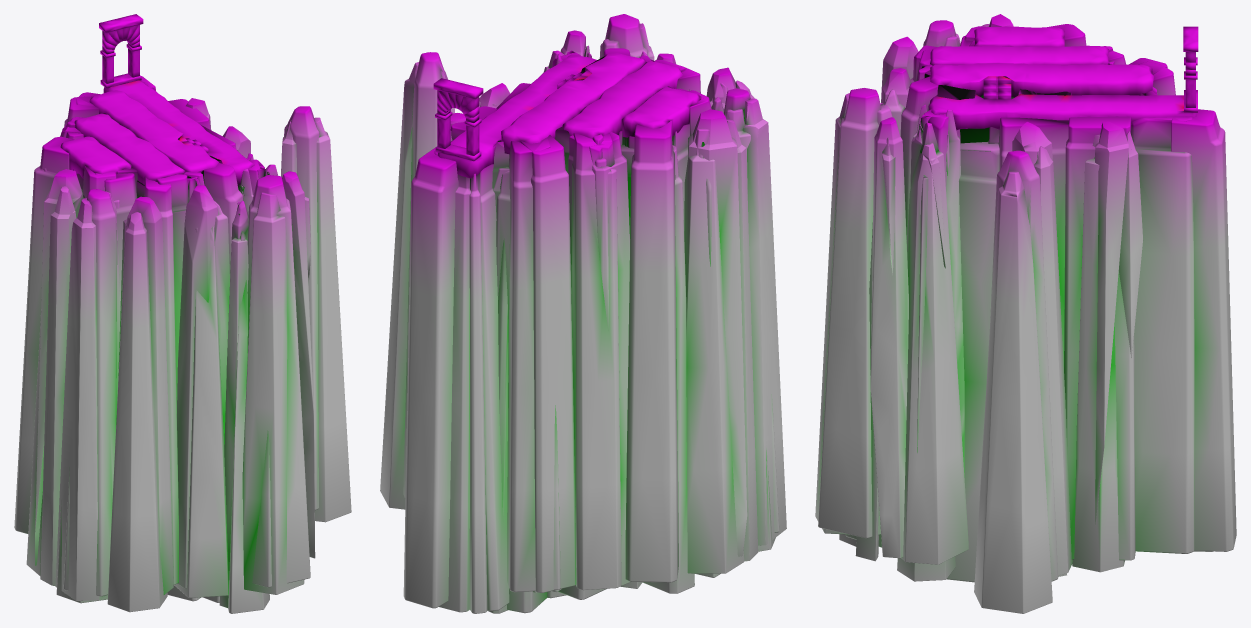
File: level.glb
3 views of the same model, side by side, from view 1: azimuth 30°, elevation 25°; view 2: azimuth 150°, elevation 25°; view 3: azimuth 270°, elevation 25° (orthographic). The views are drawn at different scales.
Visible parts, largest first — view 1: rock, marble; view 2: rock, marble; view 3: rock, marble.
Part boxes in pixels (bbox=[...]): rock: bbox=[14, 76, 351, 613]; marble: bbox=[60, 14, 254, 186]; rock: bbox=[380, 14, 786, 613]; marble: bbox=[433, 53, 700, 178]; rock: bbox=[815, 14, 1236, 613]; marble: bbox=[928, 26, 1198, 130].
Bounding box in the file's own units: 13.79 × 19.84 × 14.38.
